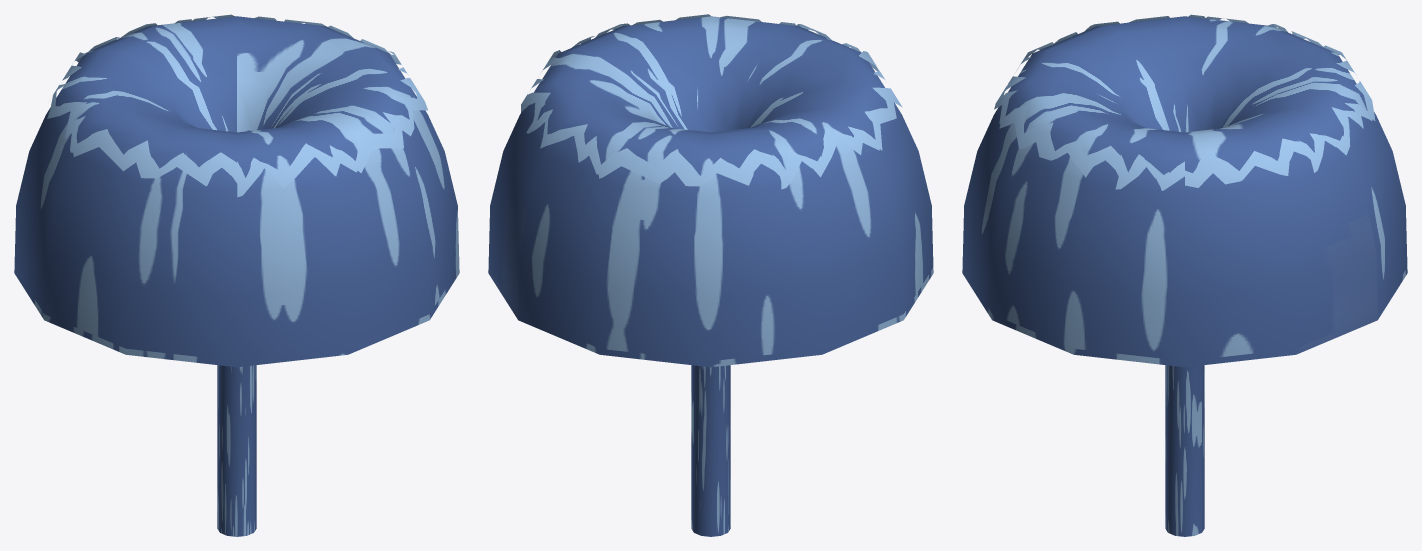
Rendered from ToiletSplash_SM.FBX.
3 renders of one model, left to right at view 1: azimuth 30°, elevation 25°; view 2: azimuth 150°, elevation 25°; view 3: azimuth 270°, elevation 25°, orthographic.
Visible parts, largest first — view 1: Cylinder001; view 2: Cylinder001; view 3: Cylinder001.
Boxes of the visible parts, <box> form: Cylinder001: <box>14,14,459,536</box>; Cylinder001: <box>488,14,933,536</box>; Cylinder001: <box>962,14,1407,536</box>.
Bounding box in the file's own units: 151 × 167 × 151.
1 material, 1 textured.
